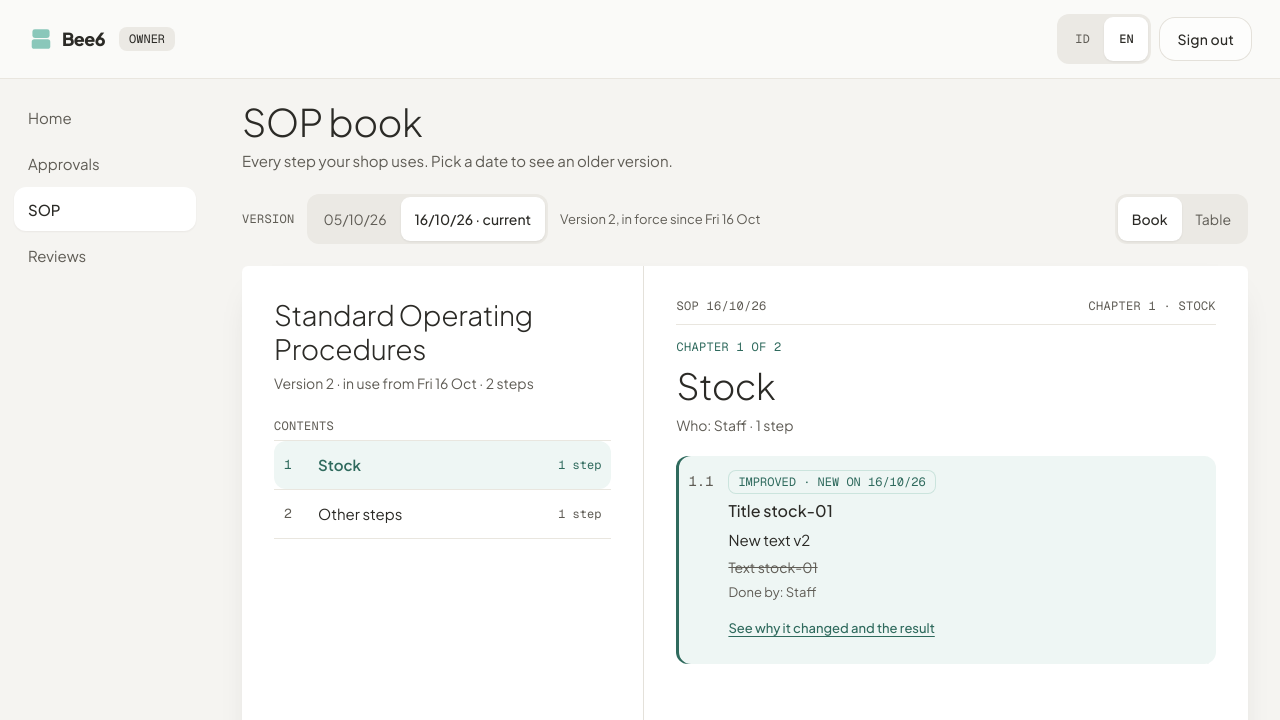
it: SopApp page (R-25 T12, board D2-04) › the improved step's 'why' control opens the approved change inline, with no separate Changes list
Step 1. Click the button "Stock 1 step" → (340,465), box [274,440,611,488]
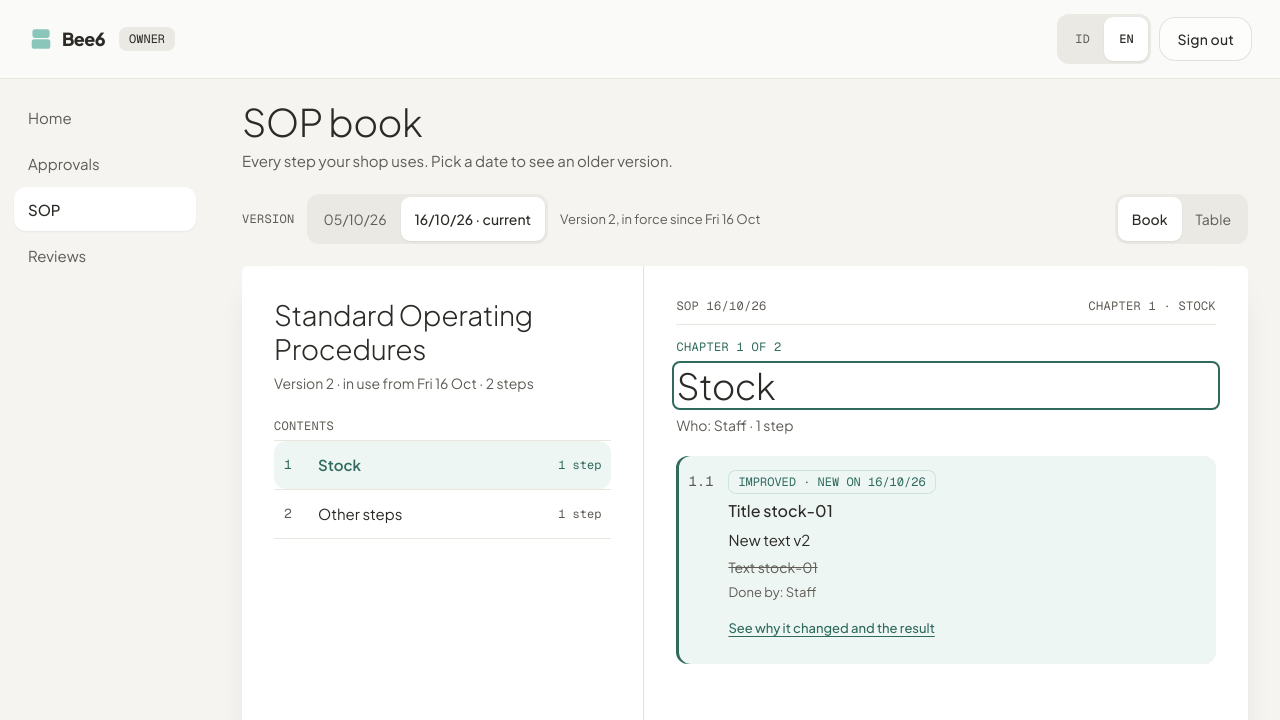
Expected: the text "Change title v2" is not shown
Step 2. Click the button "See why it changed and the result" → (832,628), box [724,606,939,650]
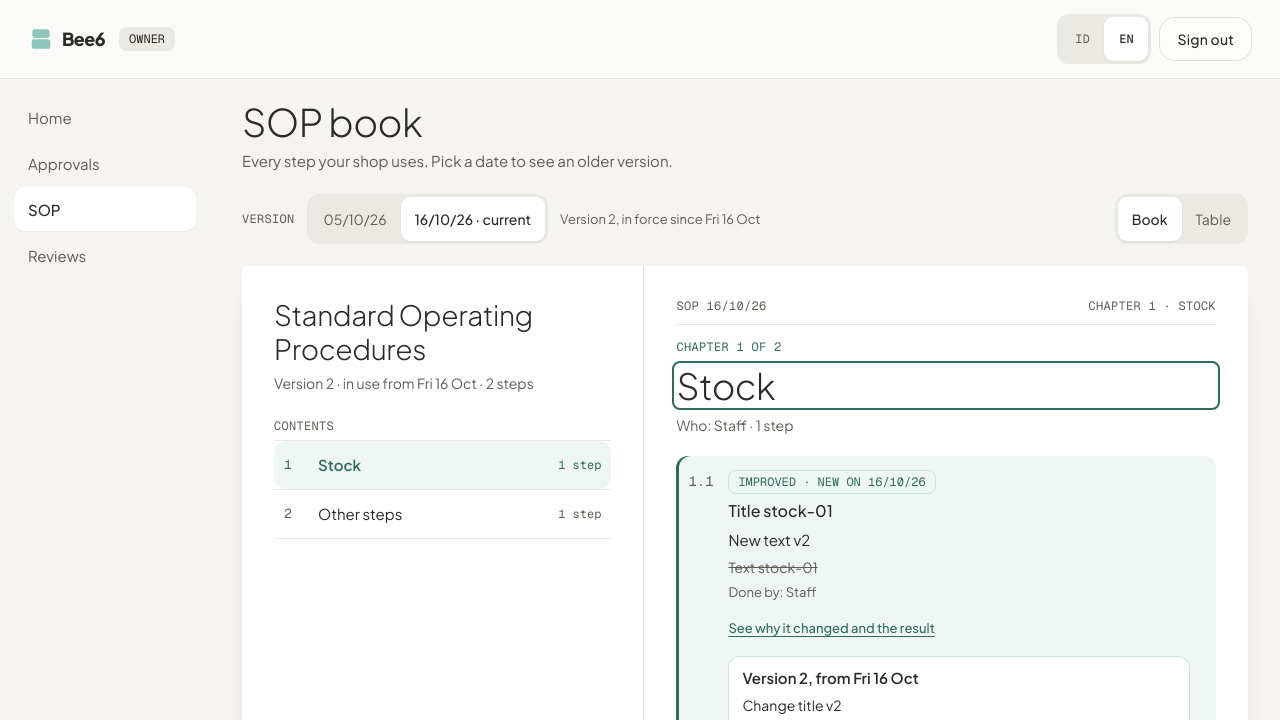
Result: the text "Change title v2" is shown at [742,696,842,714]
